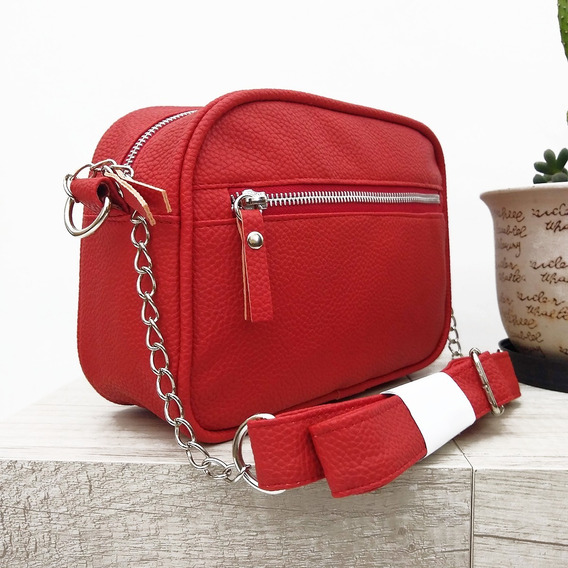cartera: (61, 87, 456, 447)
